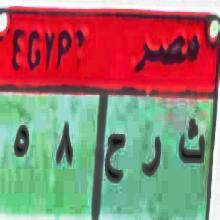5: (10, 118, 31, 165)
7aa: (105, 124, 127, 193)
8: (55, 118, 74, 172)
raa: (140, 133, 163, 185)
thaa: (174, 112, 210, 182)
